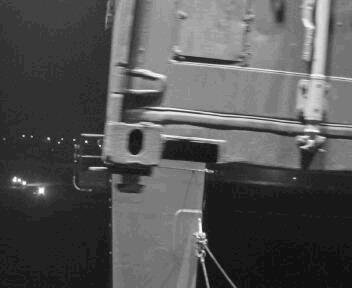twist_lock_1: (103, 161, 159, 201)
